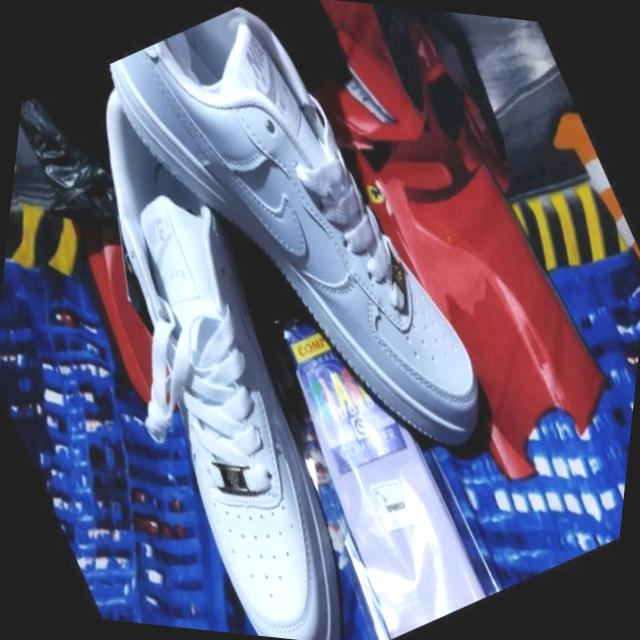nike_fake_airforce: (0, 44, 464, 640), (57, 0, 547, 539)
